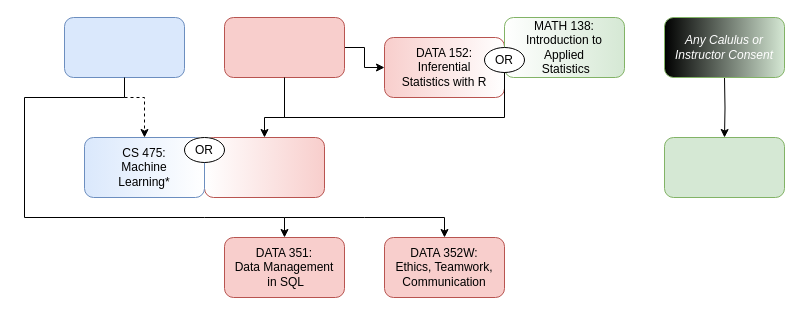
Some shapes in this 802 by 315 pixel diagram are drawn without their labels. The shapes that lost their labels are listed below. From the top down, each one's box as (x1, y1, x2, y2) in pixels, then its label:
(64, 16, 184, 78): CS 151: Intro to Programming in Python
(224, 16, 344, 78): DATA 151: Intro to Data Science in R
(204, 136, 324, 198): DATA 252: Models and Machine Learning
(664, 136, 784, 198): MATH 280: Math for Data Science
